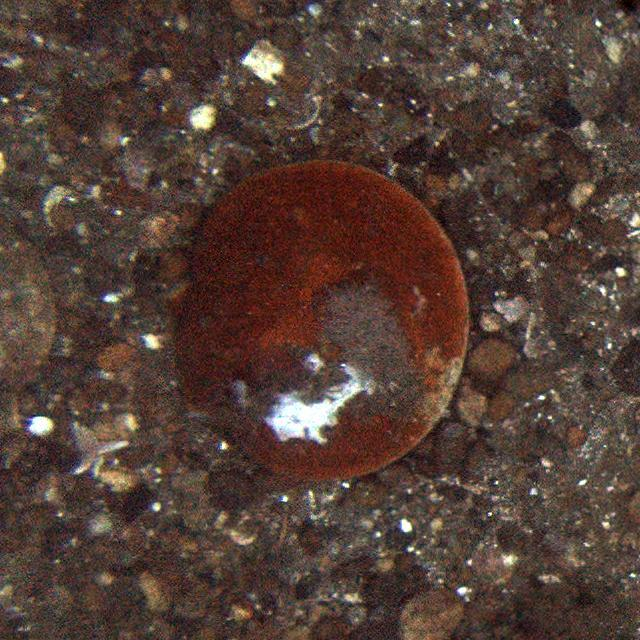scallop: (171, 157, 475, 483)
